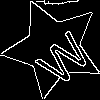W: (28, 23, 94, 89)
